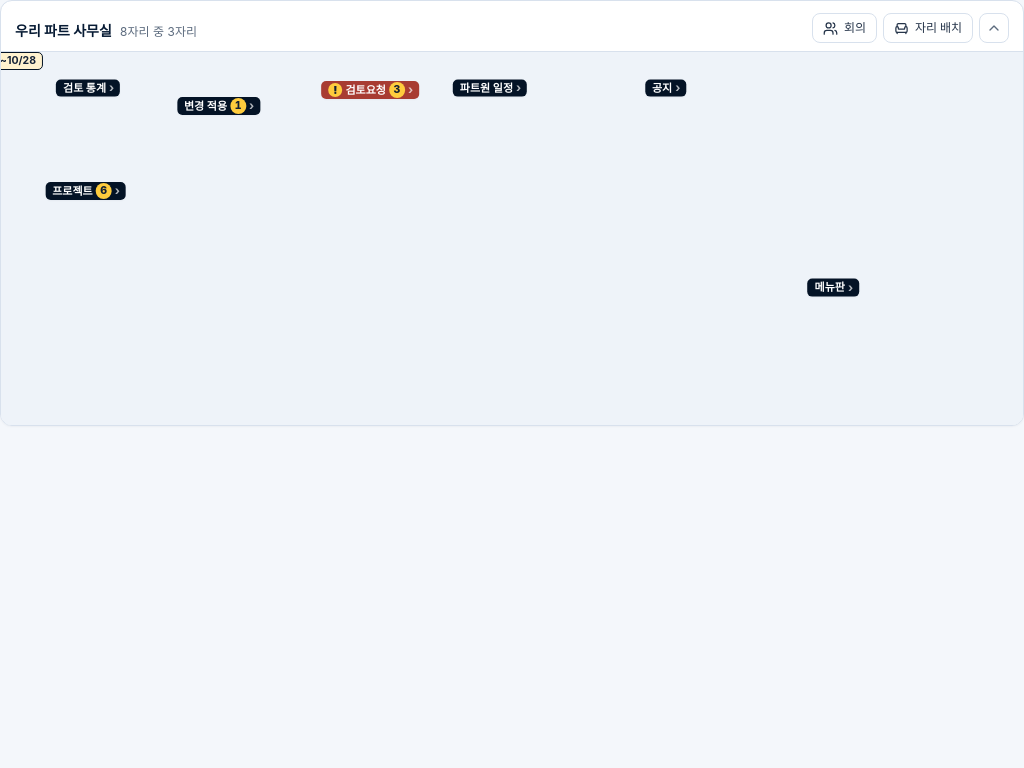
HomeOffice › asks for a character gender before saving a newly seated person, then saves the layout
Click the button "자리 배치".
click(928, 28)  # box top-left (883, 13), bottom-right (973, 43)
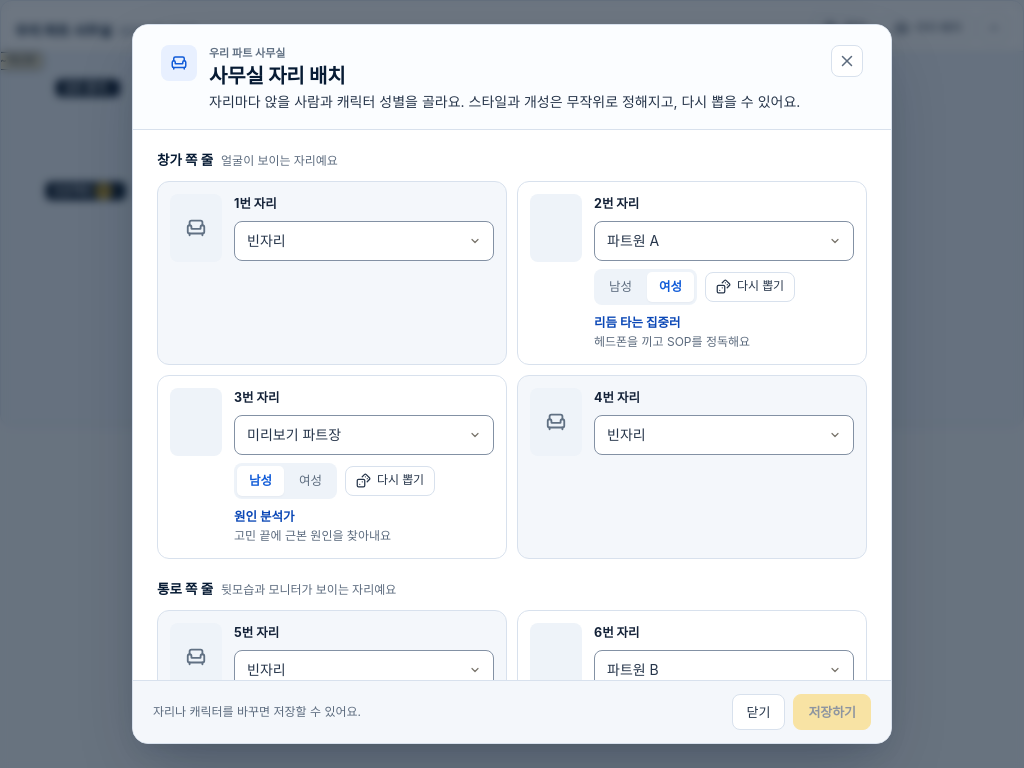
Select "미리보기 파트장 · 지금 3번 자리" in the dropdown labelled "1번 자리" at (364, 241), box top-left (234, 221), bottom-right (494, 261)
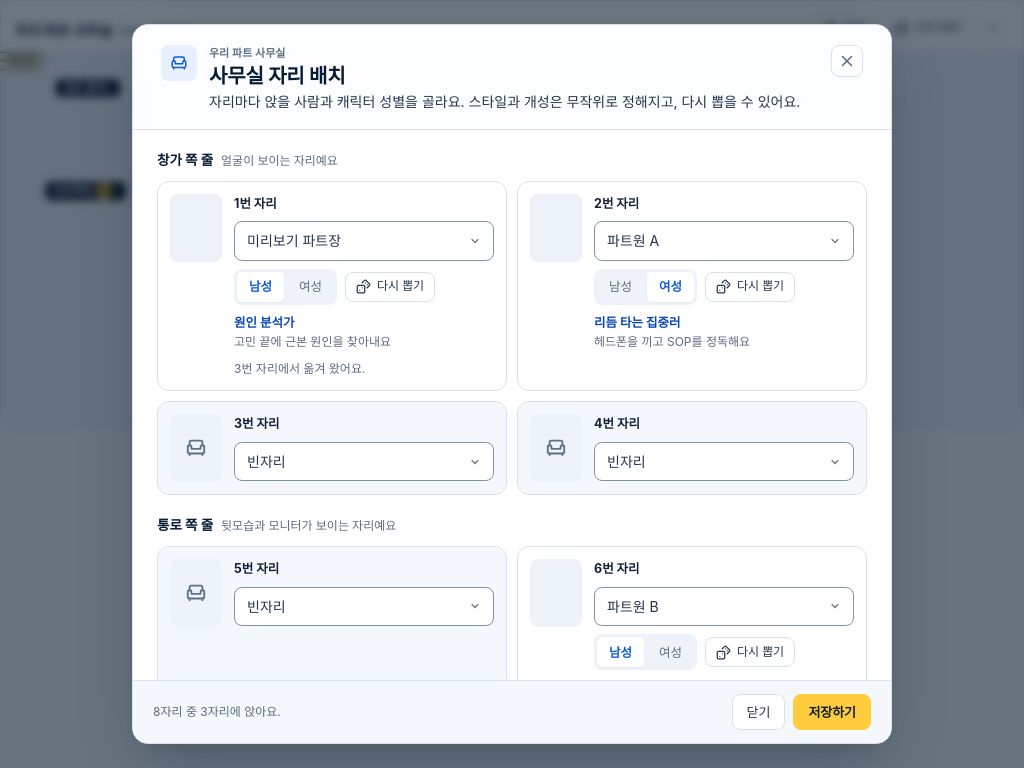
Expected: the text "3번 자리에서 옮겨 왔어요." is shown, top-left (234, 361), bottom-right (365, 376)
Expected: the dropdown labelled "3번 자리" shows "빈자리", top-left (234, 442), bottom-right (494, 481)
# 처음 앉는 사람은 성별을 골라야 저장된다.
Select "파트원 C" in the dropdown labelled "4번 자리" at (724, 462), box top-left (594, 442), bottom-right (854, 481)
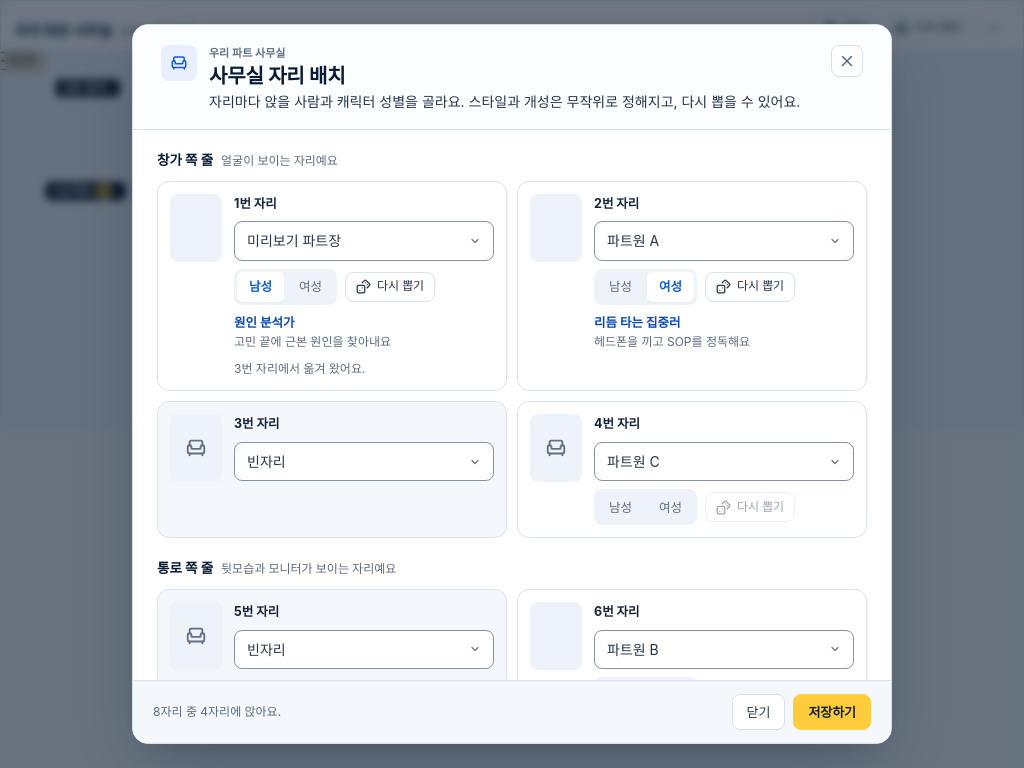
Click the button "저장하기".
click(832, 712)  # box top-left (793, 694), bottom-right (871, 730)
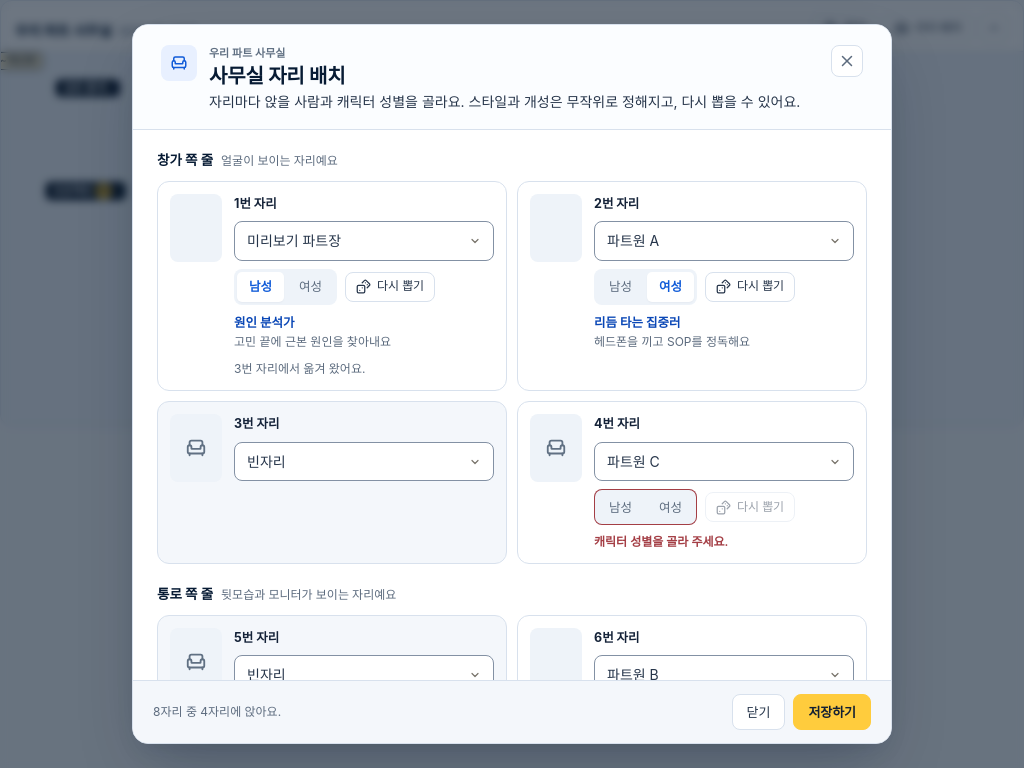
Expected: the text "캐릭터 성별을 골라 주세요." is shown, top-left (594, 534), bottom-right (728, 549)
Click the 3rd radio button labelled "여성".
click(670, 507)  # box top-left (659, 500), bottom-right (682, 515)
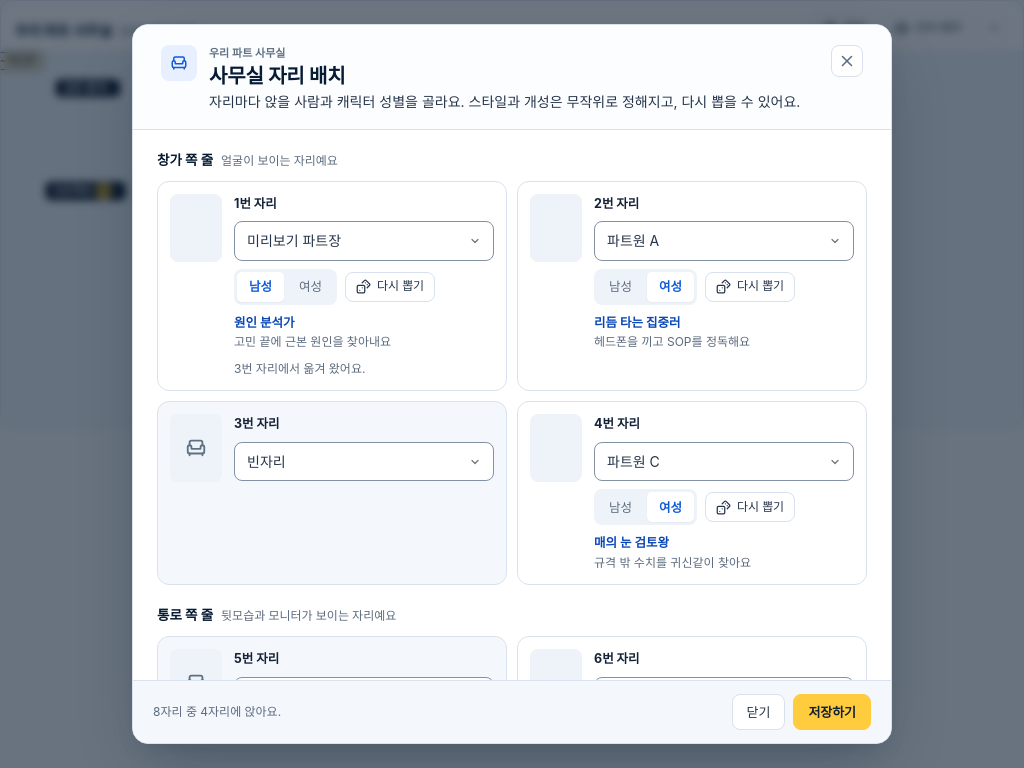
Click the button "저장하기".
click(832, 712)  # box top-left (793, 694), bottom-right (871, 730)
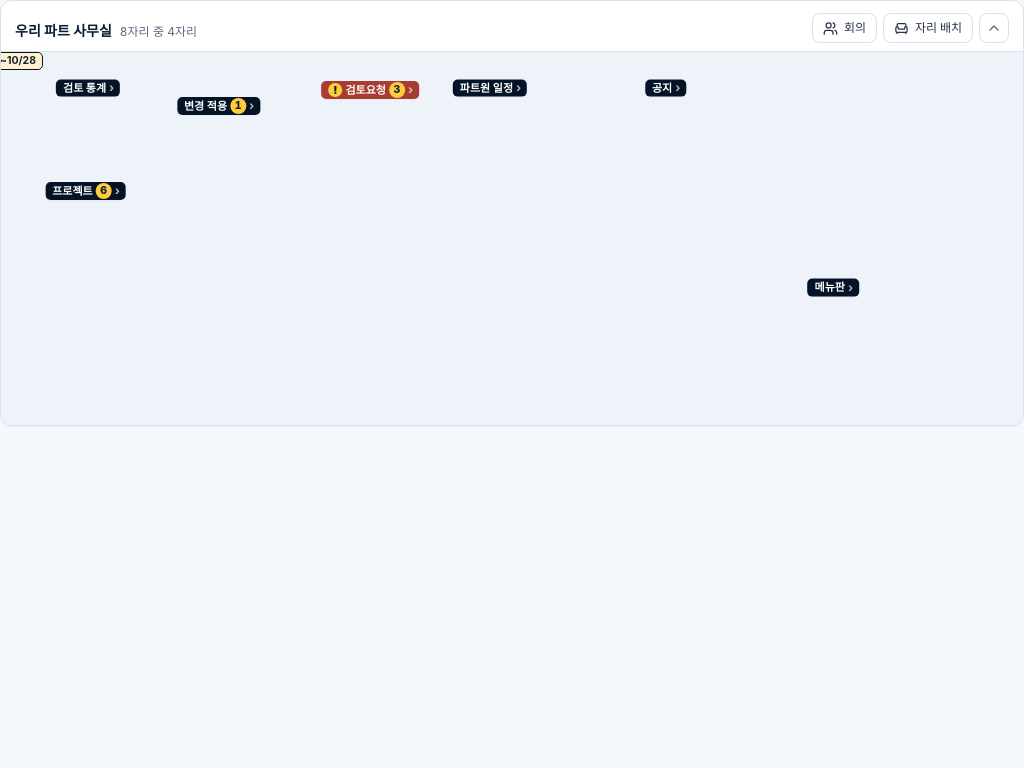
Expected: the heading "사무실 자리 배치" is gone
